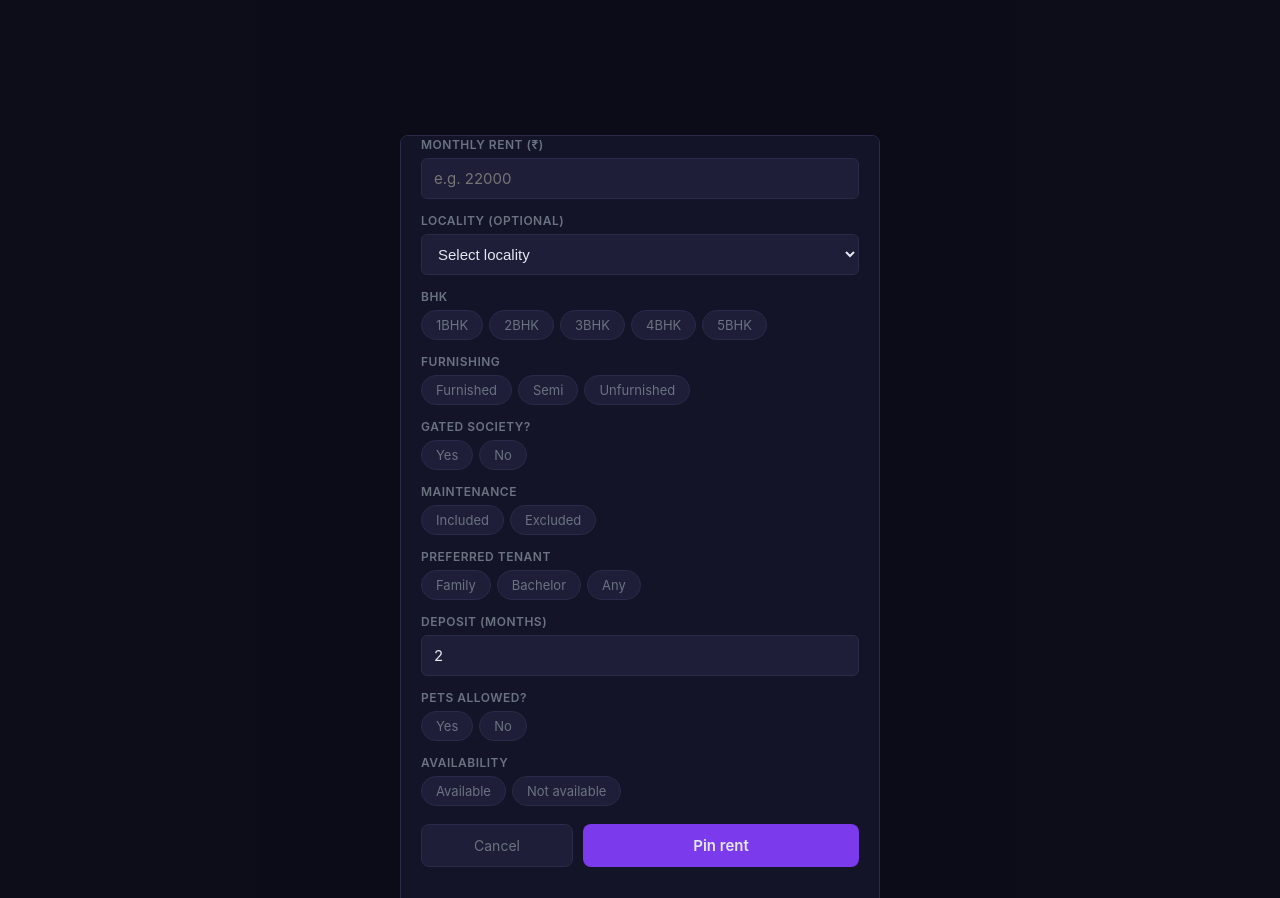
Test case: PinSubmitModal › shows validation errors for empty form
(page scrolled)
Step 1. Click the button "Pin rent" → click(721, 846), box [583,824,859,867]
(page scrolled)
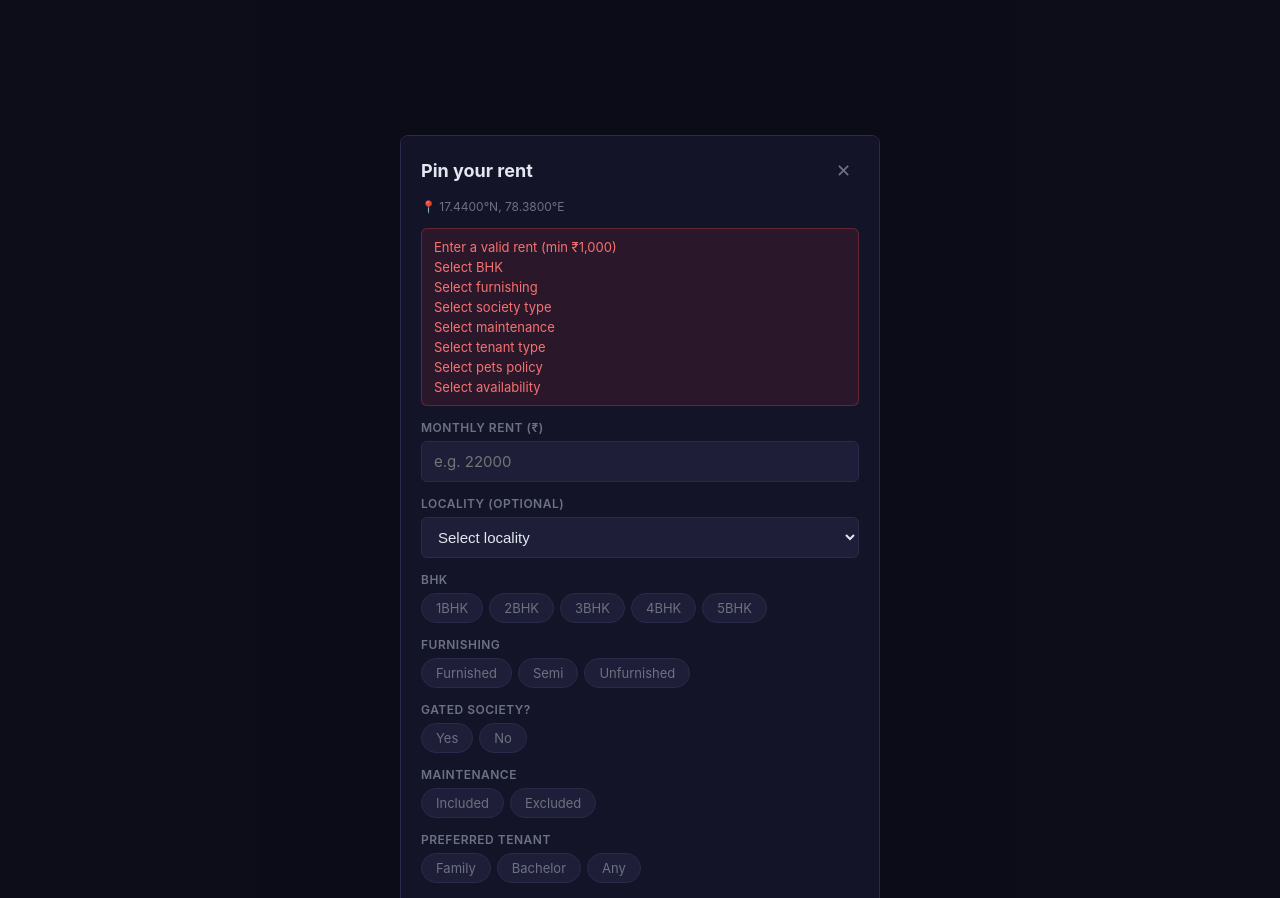
Expected: the list item "Enter a valid rent (min ₹1,000)" is shown, [434,239,617,255]
